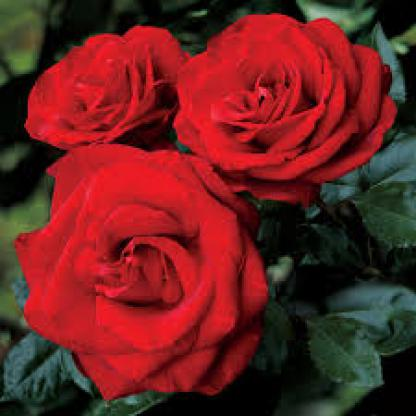Rose-Mawar: (12, 8, 399, 406)
